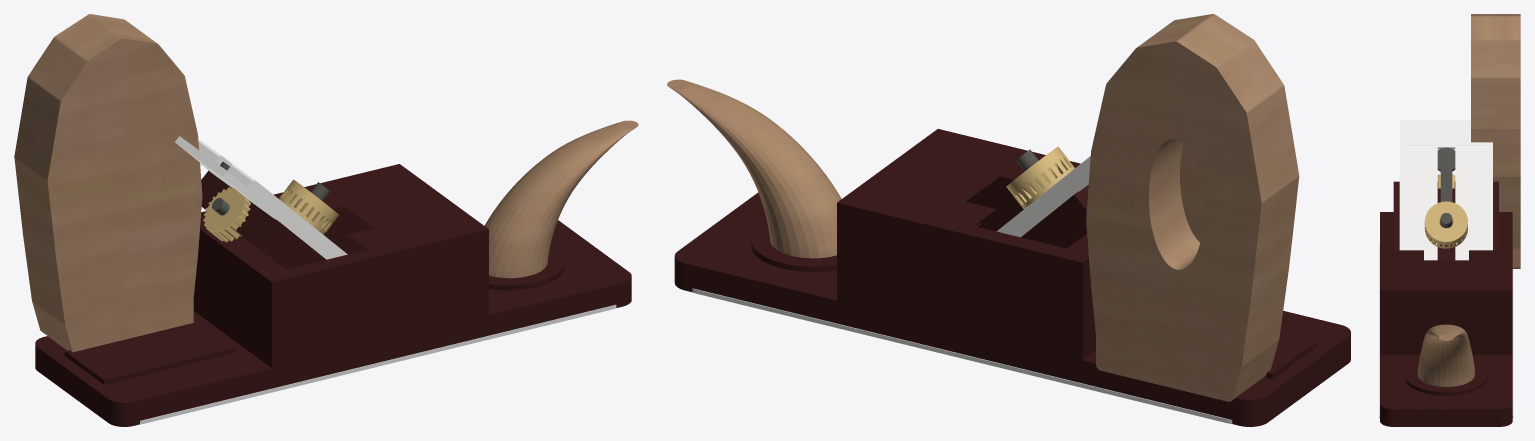
The model's file is Handtools_Hand_plane__0009.glb.
3 views of the same model, side by side, from view 1: azimuth 30°, elevation 25°; view 2: azimuth 150°, elevation 25°; view 3: azimuth 270°, elevation 25° (orthographic). The views are drawn at different scales.
Parts seen in each view (by area): view 1: plane_body::casting, rear_tote::tote, front_horn::horn, cutting_iron::iron, plane_body::frog, plane_body::sole_edge, depth_wheel::wheel, cap_nut::nut; view 2: rear_tote::tote, plane_body::casting, front_horn::horn, plane_body::sole_edge, plane_body::frog, cutting_iron::iron, cap_nut::nut; view 3: plane_body::casting, cutting_iron::iron, rear_tote::tote, front_horn::horn, cap_nut::nut, plane_body::frog, lateral_lever::lever, plane_body::sole_edge, plane_body::cap_post.
Part boxes in pixels (bbox=[...]): plane_body::casting: bbox=[35, 164, 631, 426]; rear_tote::tote: bbox=[14, 14, 202, 352]; front_horn::horn: bbox=[484, 120, 638, 278]; cutting_iron::iron: bbox=[175, 136, 347, 259]; plane_body::frog: bbox=[201, 170, 326, 269]; plane_body::sole_edge: bbox=[140, 304, 616, 424]; depth_wheel::wheel: bbox=[203, 187, 250, 242]; cap_nut::nut: bbox=[278, 179, 338, 234]; rear_tote::tote: bbox=[1086, 14, 1299, 401]; plane_body::casting: bbox=[674, 129, 1350, 426]; front_horn::horn: bbox=[667, 79, 841, 258]; plane_body::sole_edge: bbox=[692, 288, 1232, 423]; plane_body::frog: bbox=[1021, 185, 1088, 248]; cutting_iron::iron: bbox=[996, 156, 1090, 237]; cap_nut::nut: bbox=[1006, 146, 1074, 208]; plane_body::casting: bbox=[1380, 212, 1512, 426]; cutting_iron::iron: bbox=[1399, 119, 1492, 260]; rear_tote::tote: bbox=[1471, 14, 1520, 268]; front_horn::horn: bbox=[1417, 324, 1474, 386]; cap_nut::nut: bbox=[1424, 201, 1467, 248]; plane_body::frog: bbox=[1393, 181, 1498, 260]; lateral_lever::lever: bbox=[1437, 147, 1455, 201]; plane_body::sole_edge: bbox=[1379, 244, 1513, 418]; plane_body::cap_post: bbox=[1440, 213, 1452, 228].
Size of the model in its own units: 0.2508 by 0.1382 by 0.0719.
6 materials, 4 textured.
